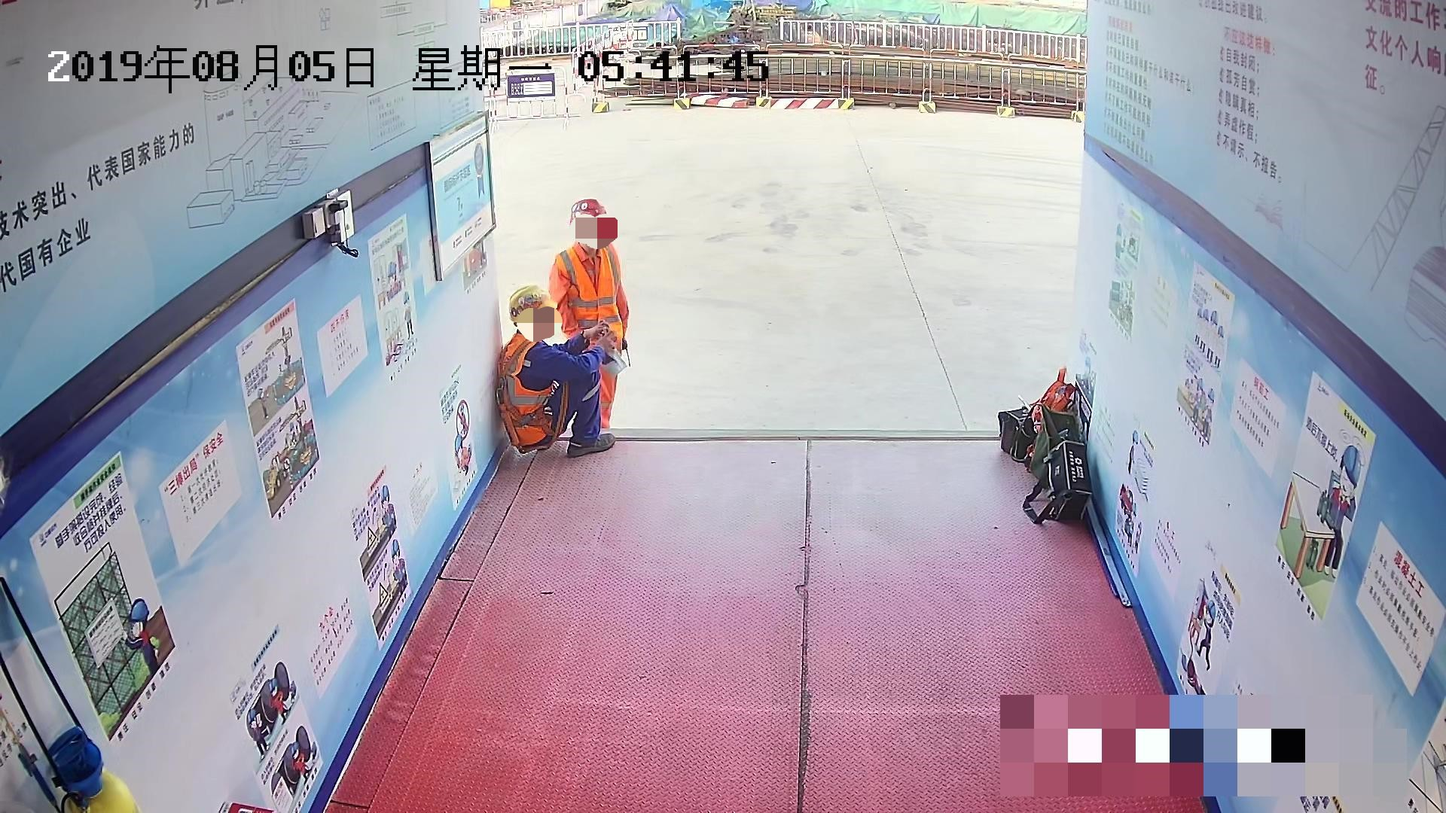hat: (505, 287, 558, 338), (567, 198, 615, 249)
person: (498, 277, 627, 473), (550, 198, 642, 433)
